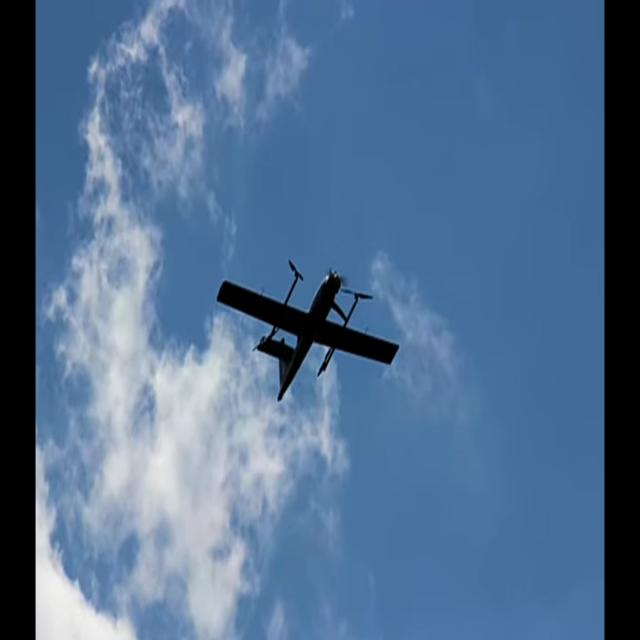iha: (215, 250, 400, 397)
